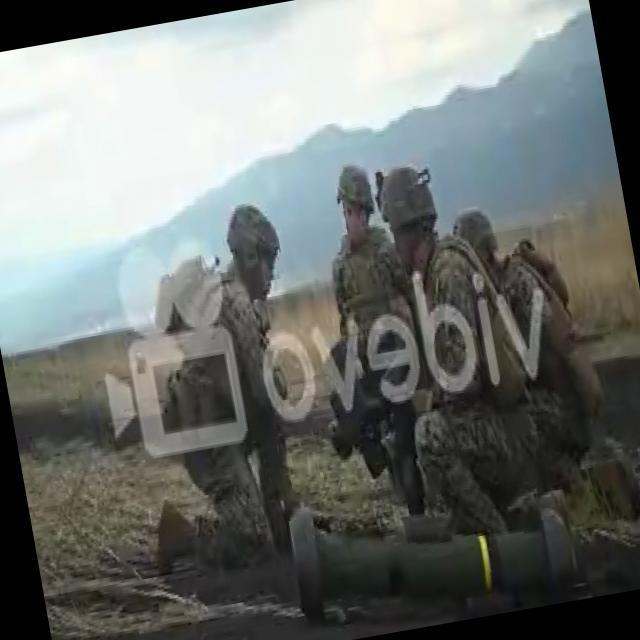rocket: (286, 459, 582, 623)
